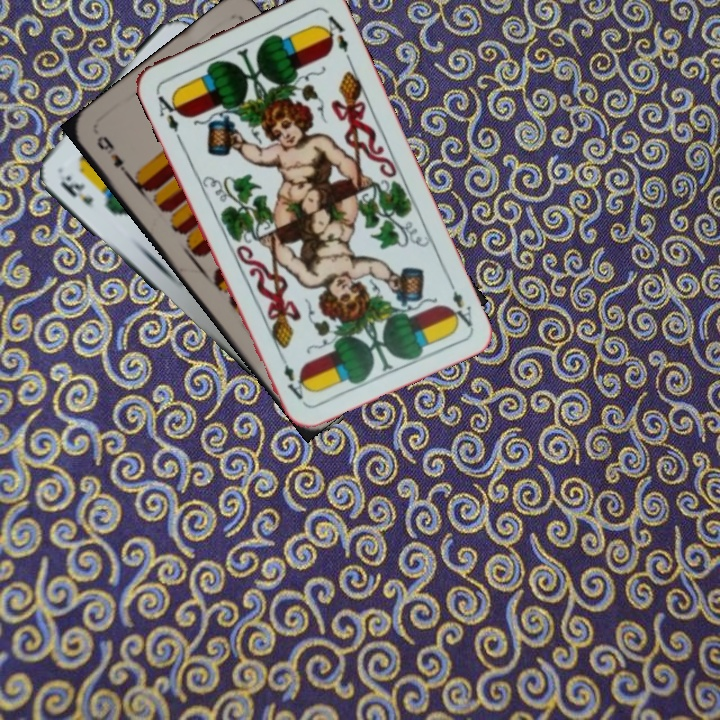E9: (92, 131, 133, 180)
EA: (443, 274, 475, 330), (151, 87, 184, 135)
EK: (56, 170, 96, 208)
